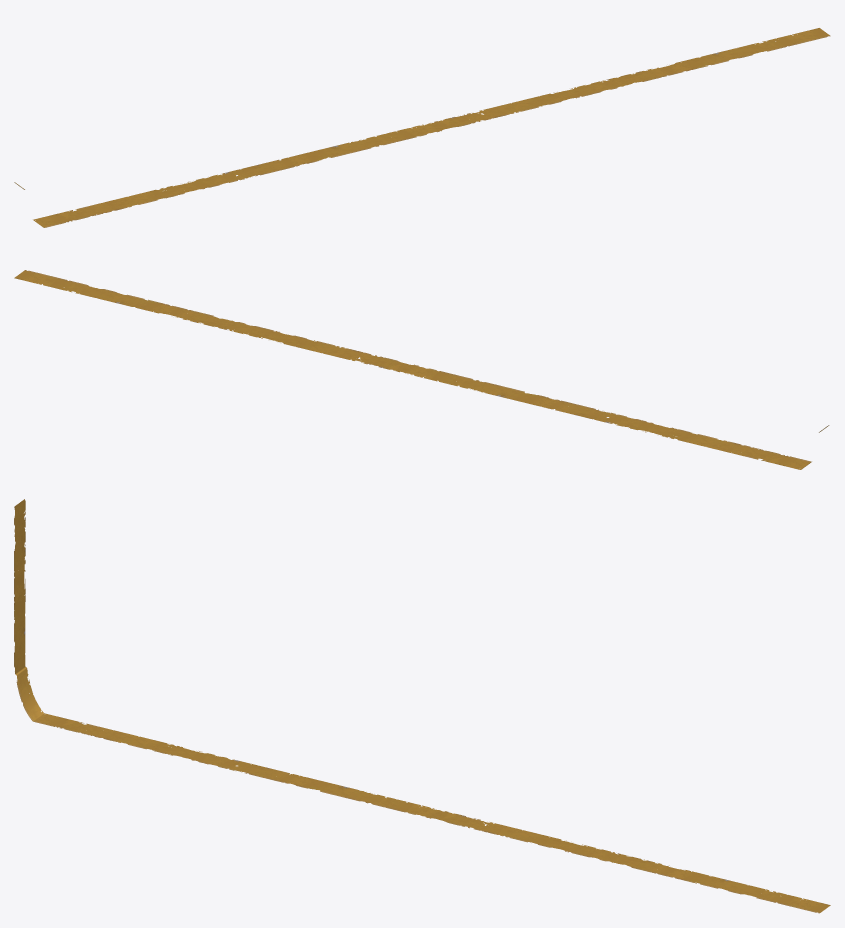
The model's file is SM_Stripe_Floor_01b.glb.
The picture shows the model from 3 angles, top to bottom: view 1: azimuth 30°, elevation 25°; view 2: azimuth 150°, elevation 25°; view 3: azimuth 330°, elevation 25°; orthographic projection.
Visible parts, largest first — view 1: SM_Stripe_Floor_01b; view 2: SM_Stripe_Floor_01b; view 3: SM_Stripe_Floor_01b.
Part boxes in pixels (bbox=[...]): SM_Stripe_Floor_01b: bbox=[14, 28, 830, 227]; SM_Stripe_Floor_01b: bbox=[14, 270, 829, 469]; SM_Stripe_Floor_01b: bbox=[14, 499, 830, 913].
Bounding box in the file's own units: 3.97 × 0.9902 × 0.0976.
1 material, 1 textured.
